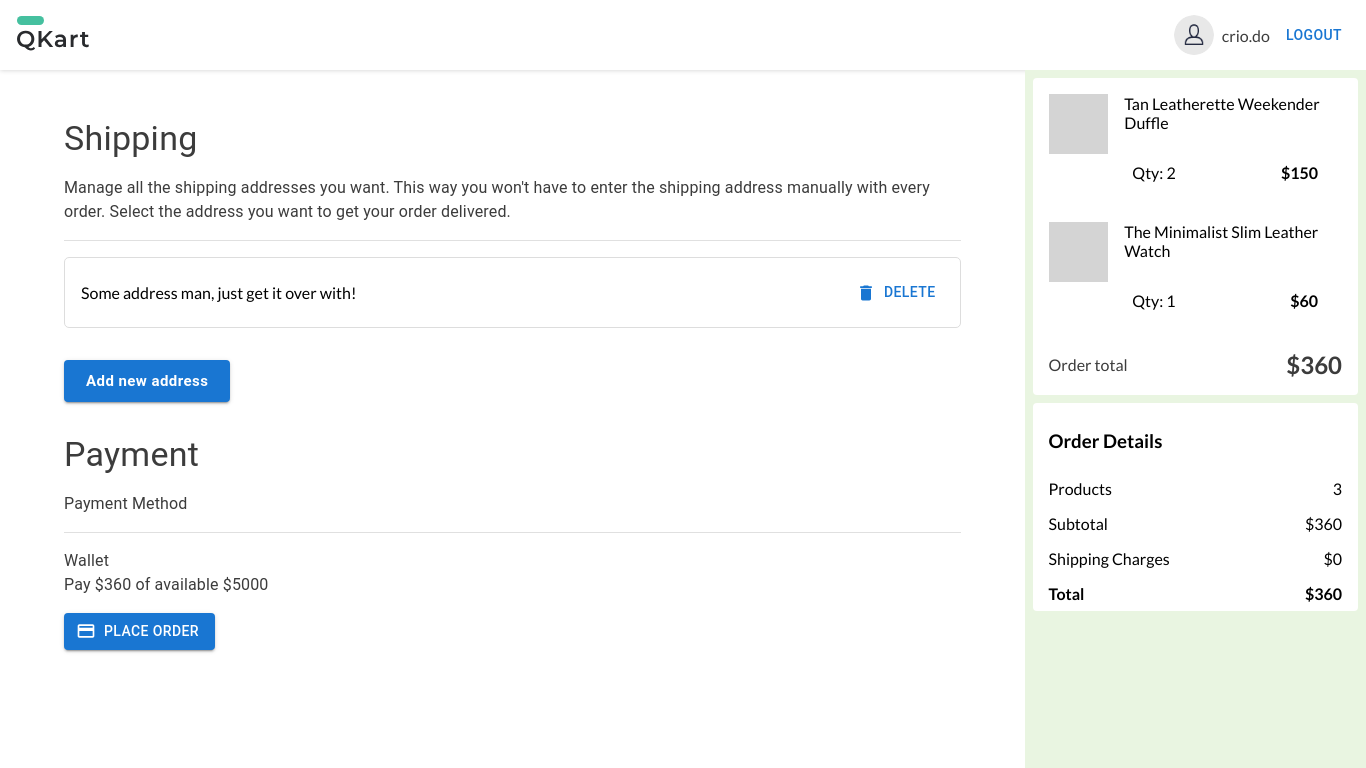
Test: Checkout Page › should show error message if no address selected for checkout
This screenshot has width=1366, height=768.
Click the button "PLACE ORDER" at (140, 631), box [64,613,215,650]
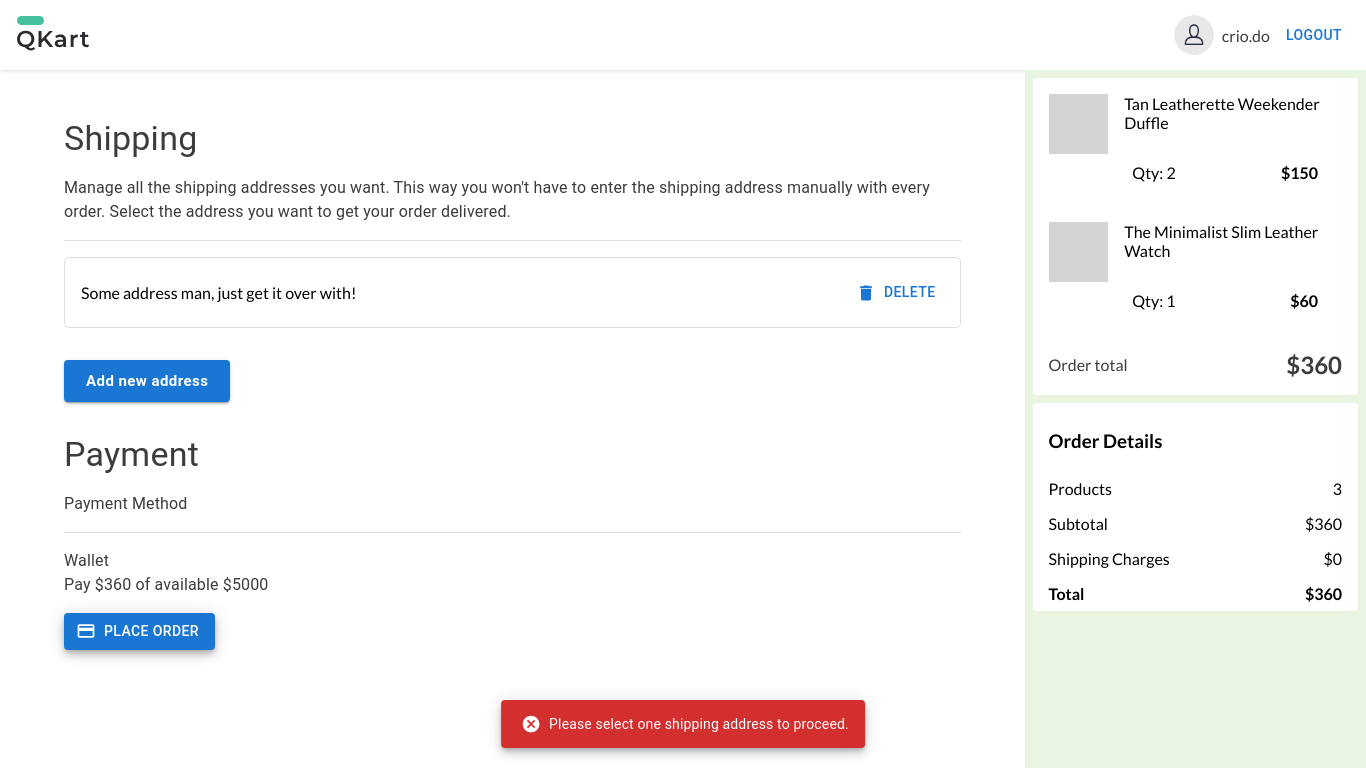
Check: the message shows "select one shipping address", box [549,716,849,732]
